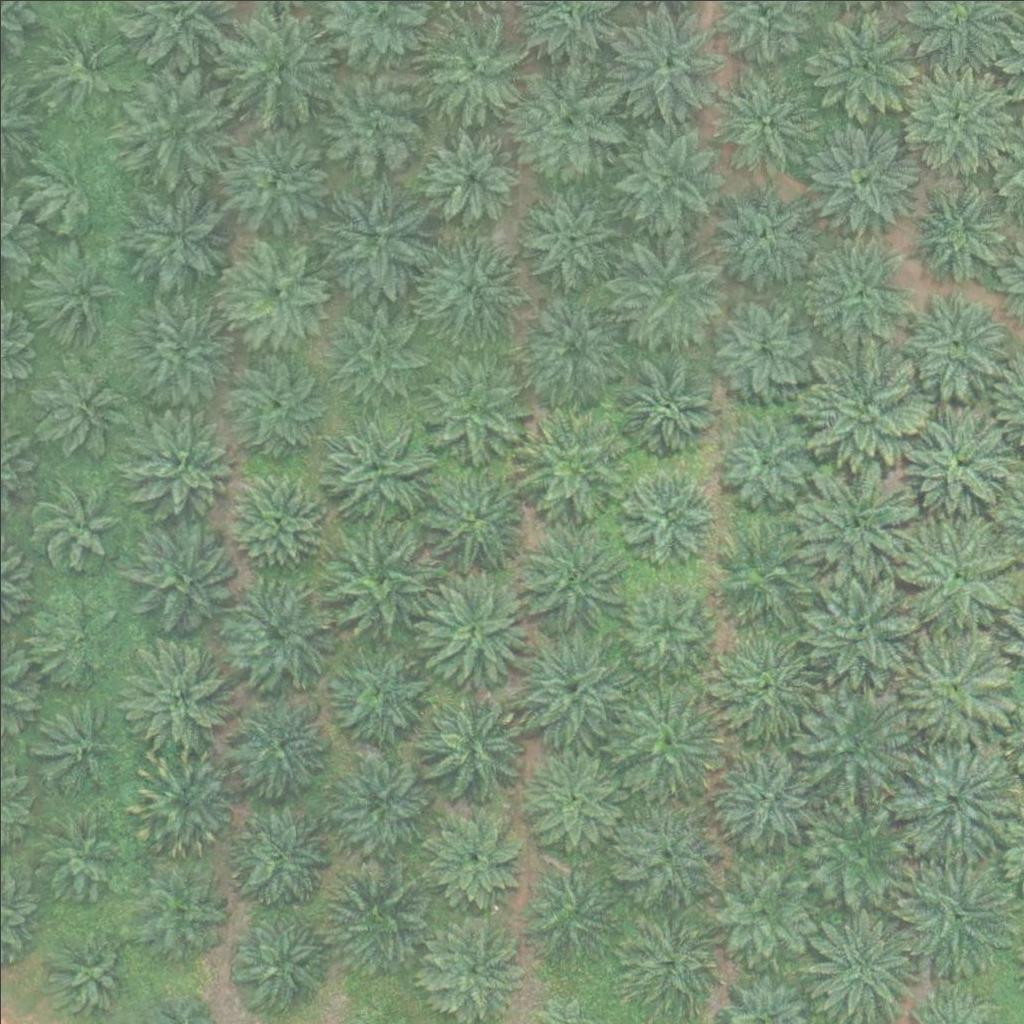Kelapa_Sawit: (805, 799, 918, 913), (899, 863, 1012, 977), (798, 689, 911, 803), (513, 523, 626, 637), (415, 347, 528, 461), (220, 121, 333, 235), (223, 11, 336, 125), (322, 292, 435, 406), (320, 182, 433, 296), (412, 227, 525, 341), (126, 744, 239, 857), (223, 903, 336, 1016), (899, 742, 1012, 855), (898, 629, 1011, 742), (803, 570, 916, 683), (801, 464, 914, 577), (807, 349, 920, 462), (609, 691, 722, 804), (512, 631, 625, 744), (418, 570, 531, 683), (416, 461, 529, 574), (122, 640, 235, 753), (127, 523, 240, 636), (123, 401, 236, 514), (316, 62, 429, 175), (608, 118, 721, 231), (608, 5, 721, 118), (710, 69, 823, 182), (894, 58, 1007, 171), (711, 738, 823, 852), (703, 630, 815, 744), (513, 398, 625, 512), (120, 71, 232, 185), (223, 795, 335, 908), (322, 866, 434, 979), (324, 744, 436, 857), (612, 794, 724, 907), (897, 517, 1009, 630), (899, 411, 1011, 524), (706, 516, 818, 629), (517, 290, 629, 403), (416, 690, 528, 803), (326, 637, 438, 750), (327, 521, 439, 634), (319, 407, 431, 520), (224, 574, 336, 687), (220, 350, 332, 463), (121, 293, 233, 406), (122, 178, 234, 291), (222, 235, 334, 348), (417, 11, 529, 124), (517, 65, 629, 178), (614, 236, 726, 349), (802, 232, 914, 345), (805, 121, 917, 234), (800, 9, 912, 122), (895, 287, 1007, 400), (131, 859, 231, 960), (426, 920, 526, 1021), (426, 809, 526, 910), (519, 864, 619, 965), (521, 748, 621, 849), (624, 908, 724, 1009), (711, 861, 811, 962), (714, 411, 814, 512), (712, 292, 812, 393), (612, 350, 712, 451), (230, 694, 330, 795), (227, 471, 327, 572), (24, 244, 124, 345), (420, 126, 520, 227), (518, 185, 618, 286), (712, 188, 812, 289), (902, 182, 1002, 283), (617, 464, 717, 564), (32, 18, 132, 118), (43, 928, 131, 1016), (623, 579, 711, 667), (32, 698, 120, 786), (27, 140, 115, 228), (28, 808, 115, 896), (29, 594, 116, 682), (34, 480, 121, 568), (33, 364, 120, 452)
